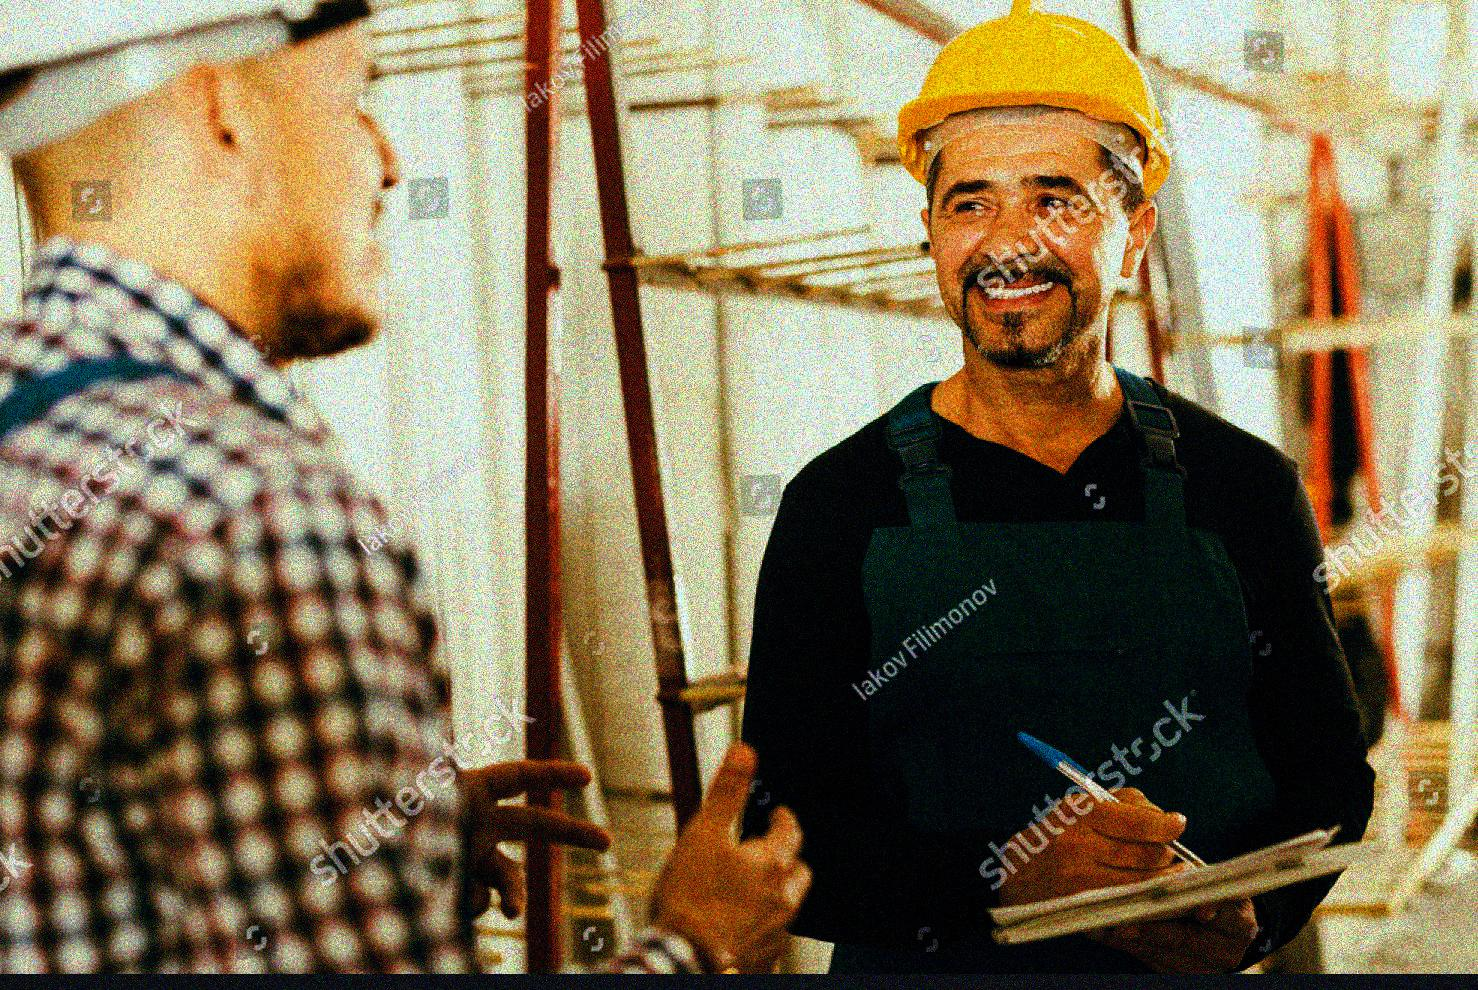helmet: (1, 1, 412, 339), (897, 10, 1172, 369)
